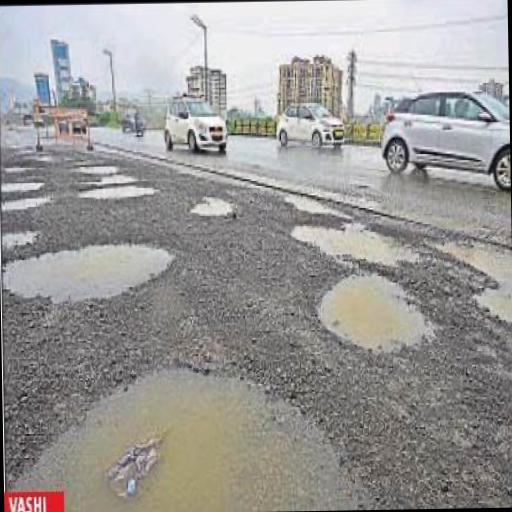pothole: (1, 357, 364, 512), (0, 233, 175, 305), (313, 268, 432, 352), (292, 214, 414, 269), (80, 181, 154, 201), (189, 192, 234, 218), (0, 173, 47, 191), (0, 193, 50, 209), (74, 161, 120, 174)
